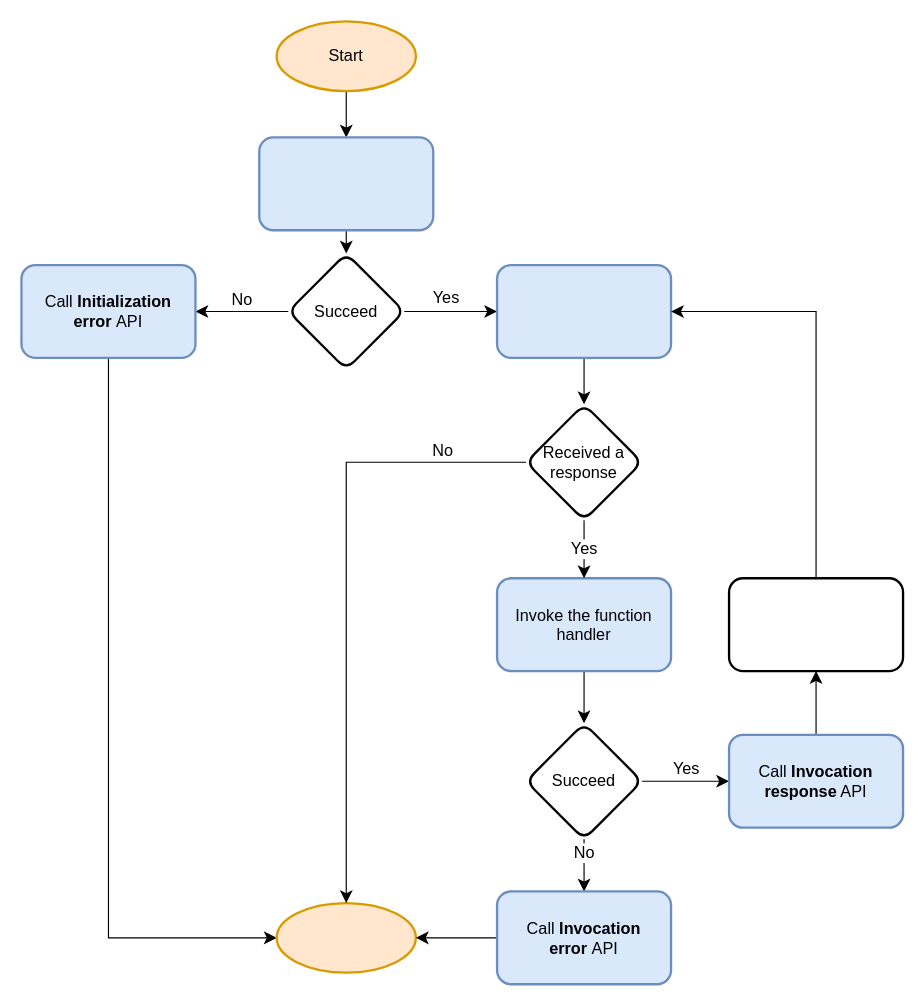
Some shapes in this 923 by 1005 pixel diagram are drawn without their labels. Each missing label, with the box of its shape:
Call Next Invocation API: (495, 263, 672, 358)
Cleanup: (727, 577, 904, 672)
Exit: (275, 901, 416, 973)
Initialize runtime: (258, 136, 434, 231)
